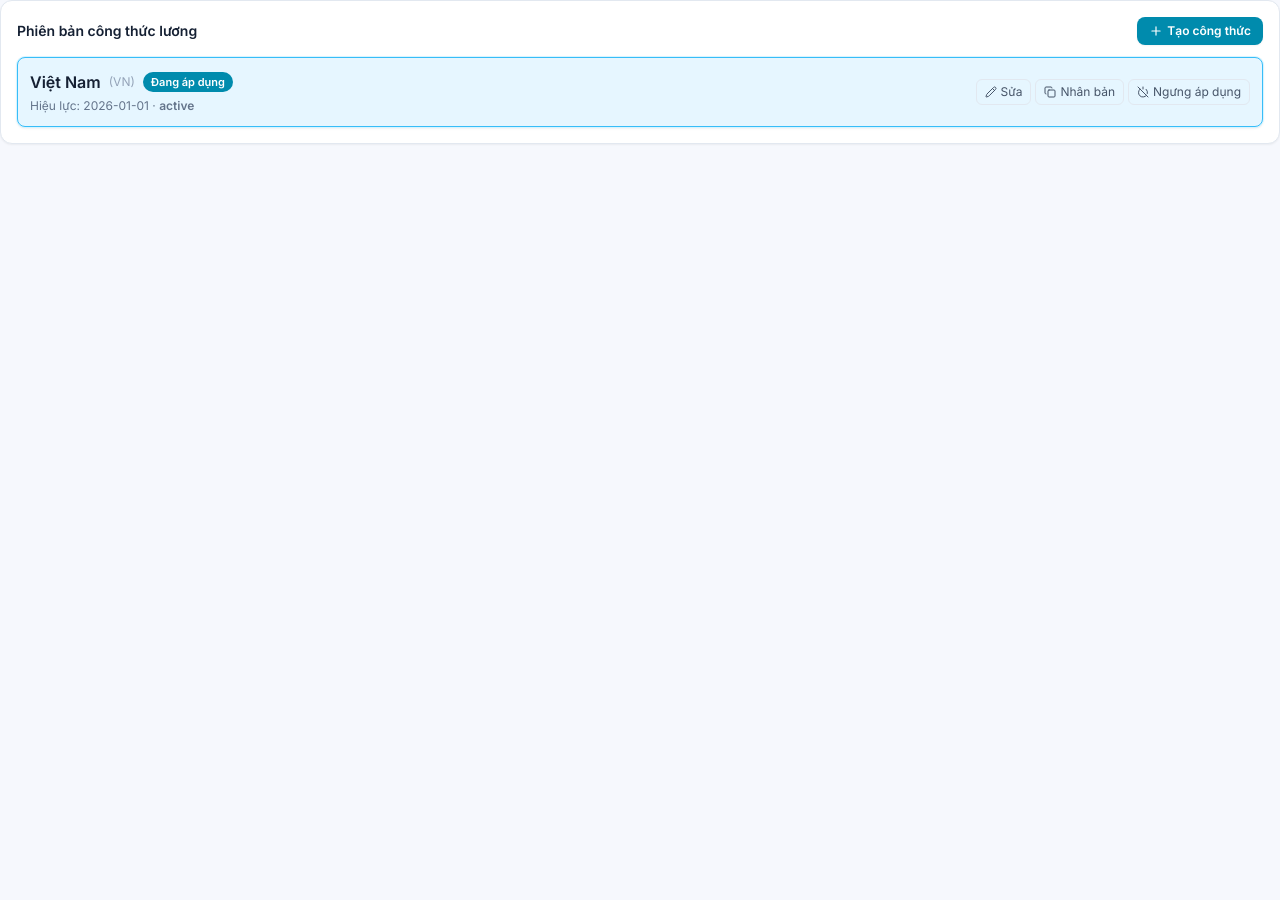
Test case: PayrollPolicyManager › only offers configuration saving for a reviewed period
This screenshot has width=1280, height=900.
Click the button "Sửa". click: (1004, 92)
box: [976,79,1032,105]
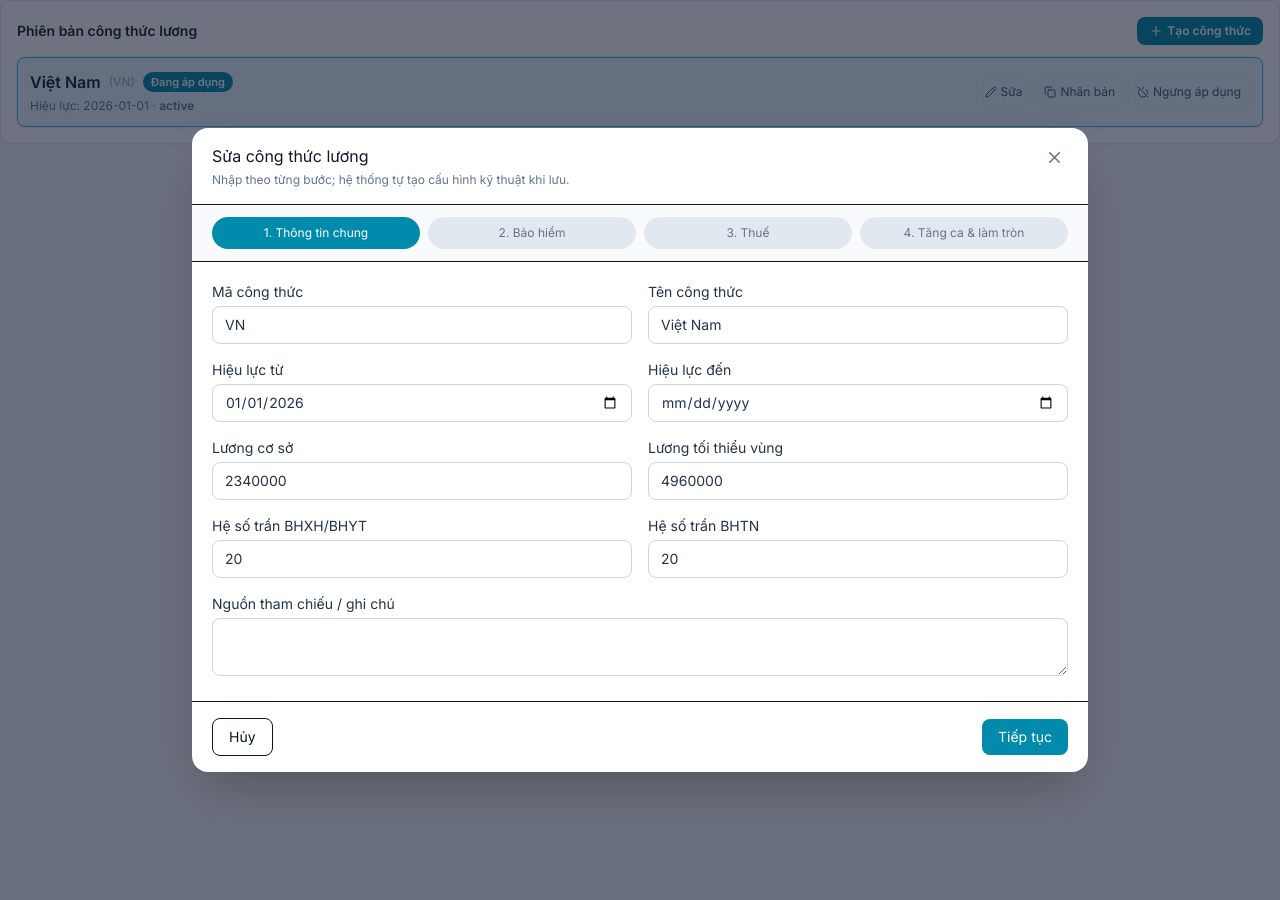
Click the button "Tiếp tục". click: (1025, 737)
box: [982,719,1068,755]
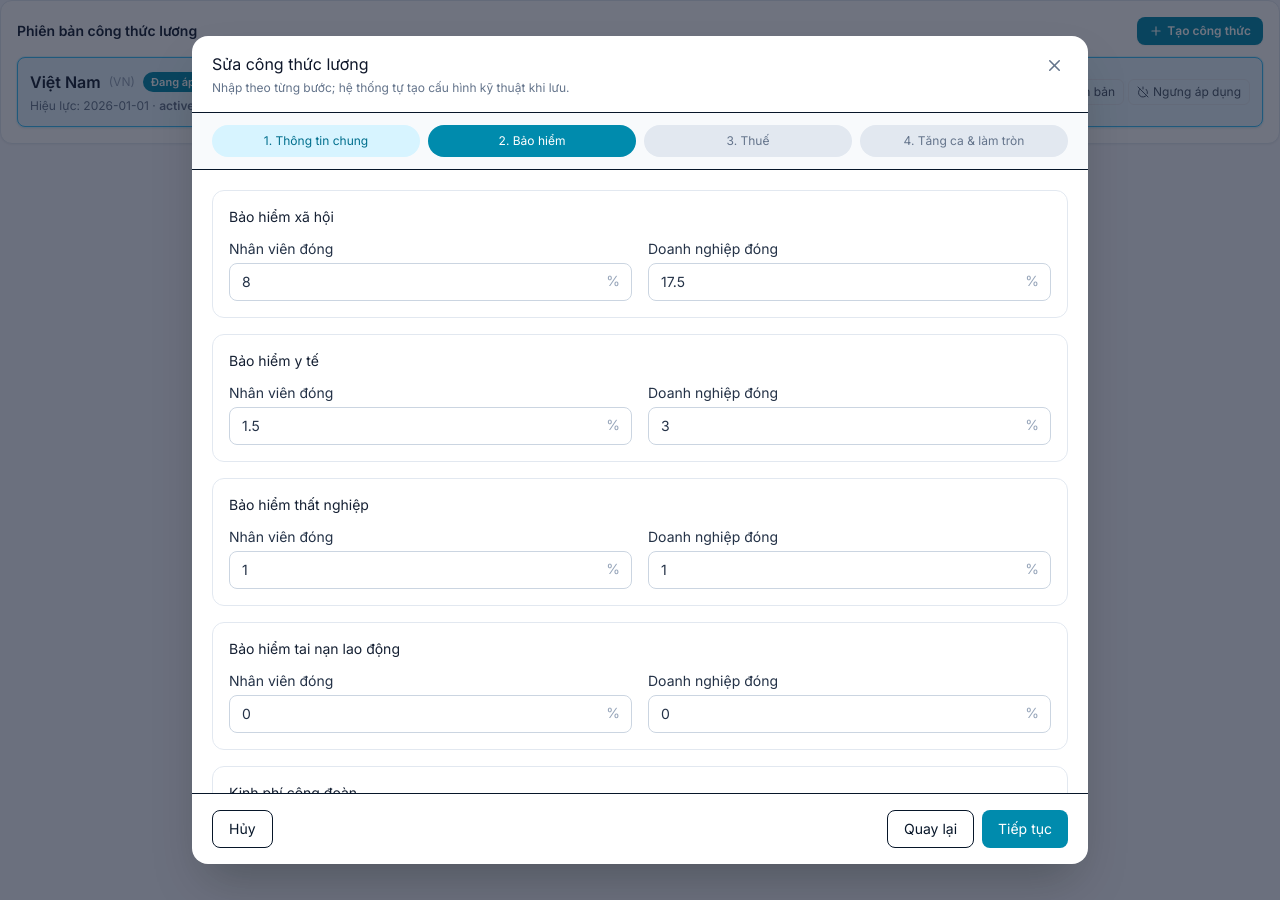
Click the button "Tiếp tục". click: (1025, 829)
box: [982,810,1068,848]
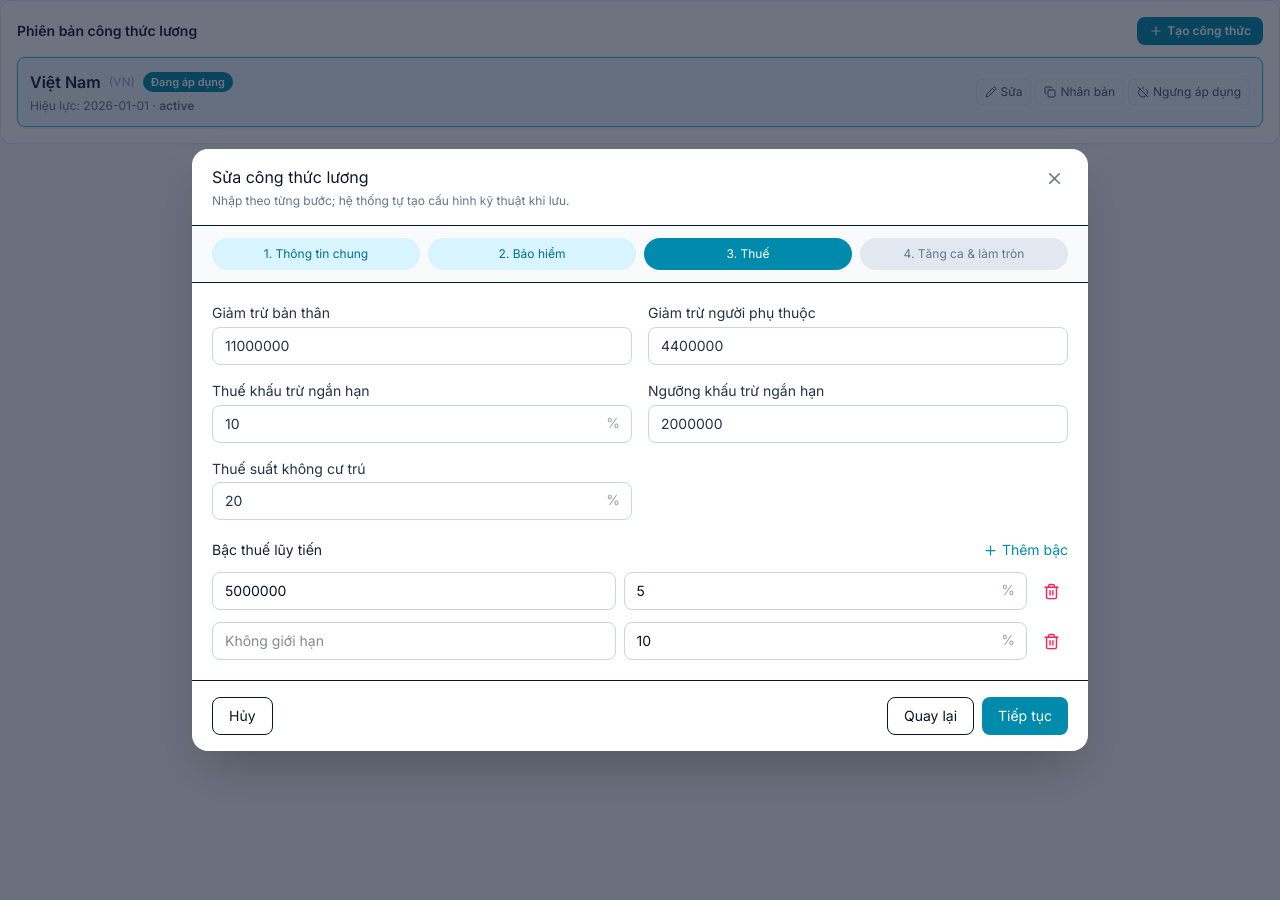
Click the button "Tiếp tục". click: (1025, 716)
box: [982,697,1068,735]
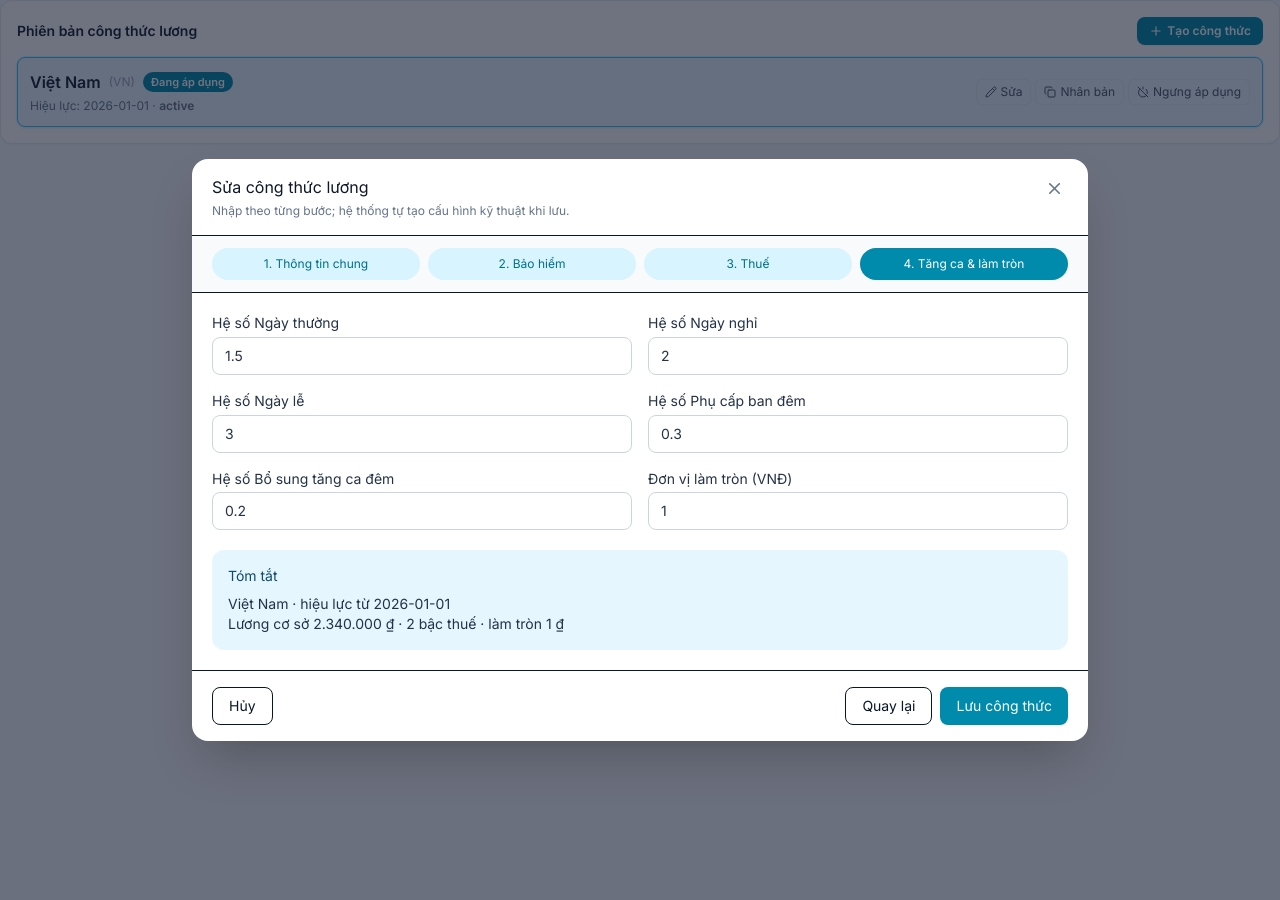
Click the button "Lưu công thức". click: (1004, 706)
box: [940,687,1068,725]
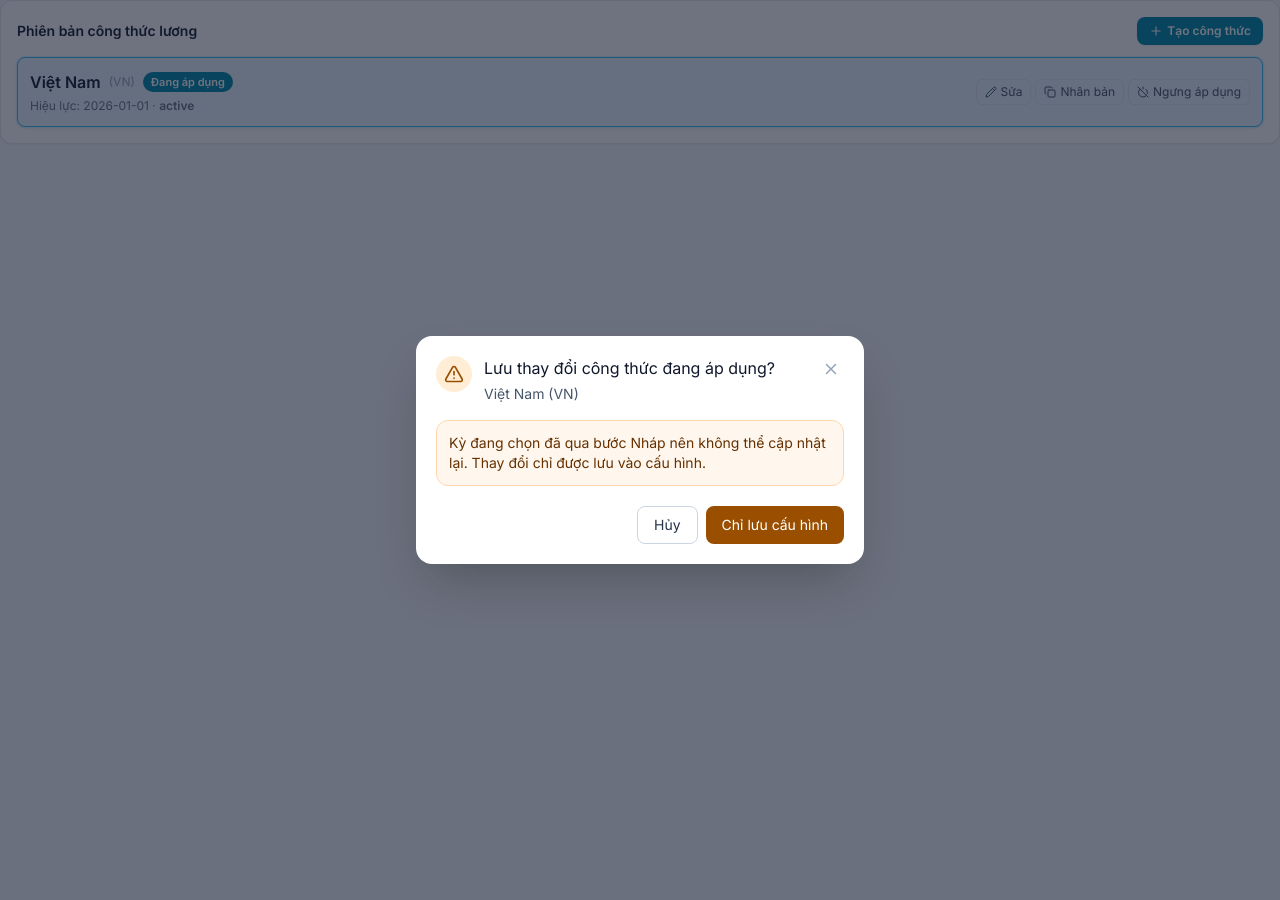
Result: the button "Chỉ lưu cấu hình" is shown at [706,506,844,544]
